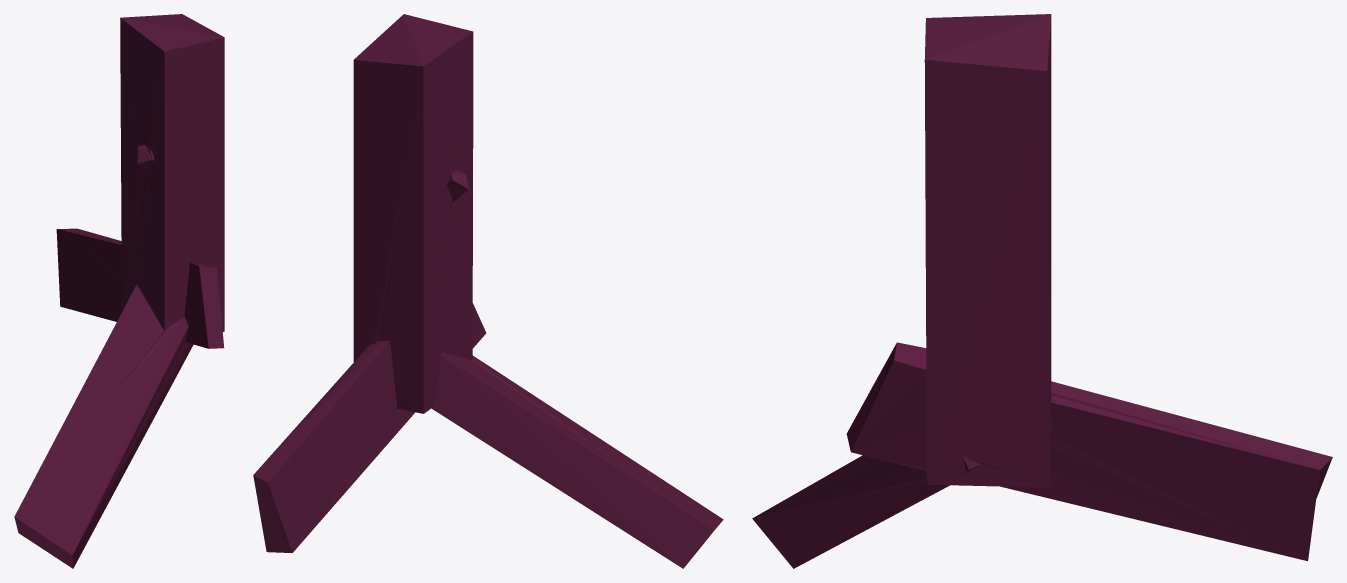
3 renders of one model, left to right at view 1: azimuth 30°, elevation 25°; view 2: azimuth 150°, elevation 25°; view 3: azimuth 270°, elevation 25°, orthographic. The views are drawn at different scales.
Visible parts, largest first — view 1: 330_Cube.1351; view 2: 330_Cube.1351; view 3: 330_Cube.1351.
Part boxes in pixels (x1,y1,x2,y2): 330_Cube.1351: (14,14,224,568); 330_Cube.1351: (253,14,723,568); 330_Cube.1351: (752,14,1332,568).
Size of the model in its own units: 10.36 by 18.66 by 15.09.
